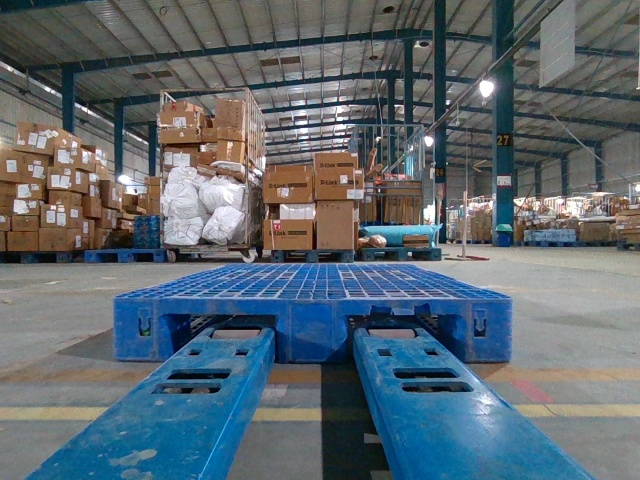block: (274, 299, 354, 364), (112, 298, 172, 362), (461, 298, 511, 362)
front: (113, 298, 512, 362)
hole pallet: (342, 315, 459, 363), (167, 311, 276, 357)
